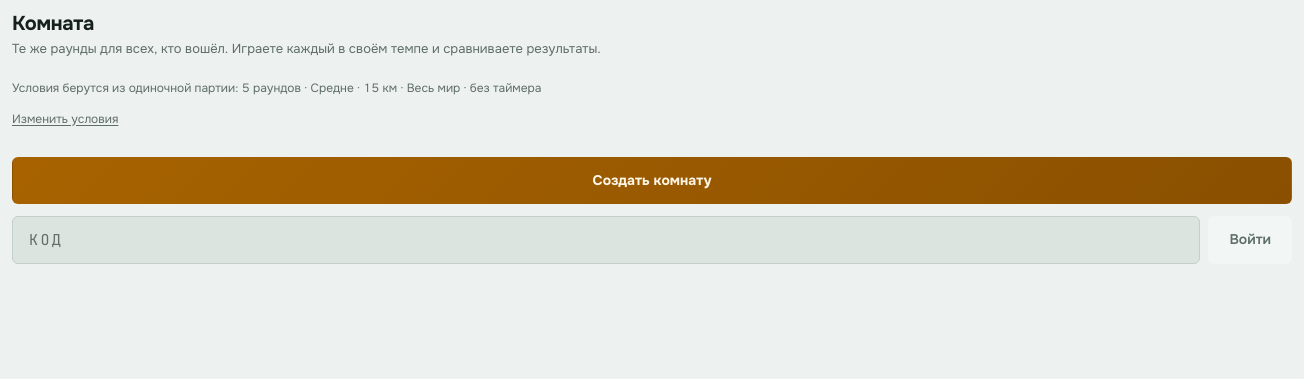
Test: MatchRoom › хост закрывает набор
Step 1. Click the button "Создать комнату" → (652, 180), box 12,156 -> 1292,204
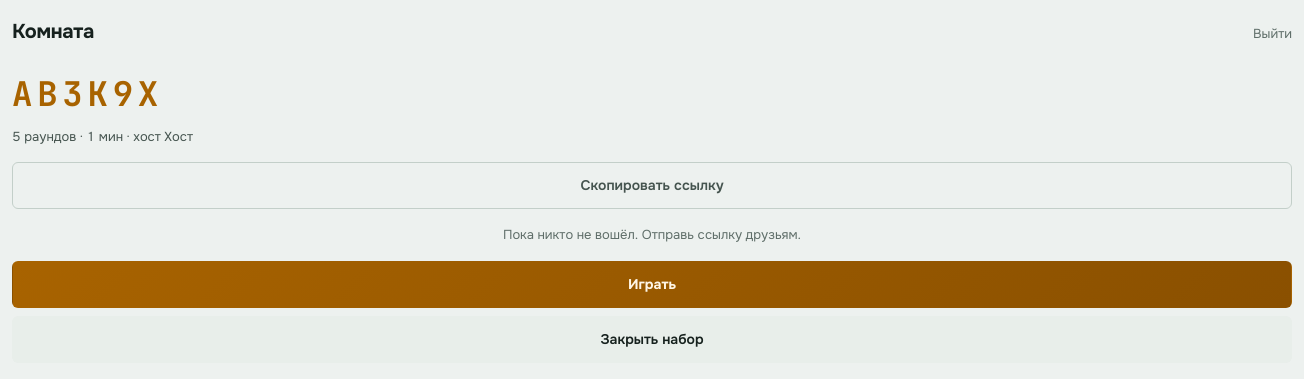
Step 2. Click the button "Закрыть набор" → (652, 339), box 12,316 -> 1292,362
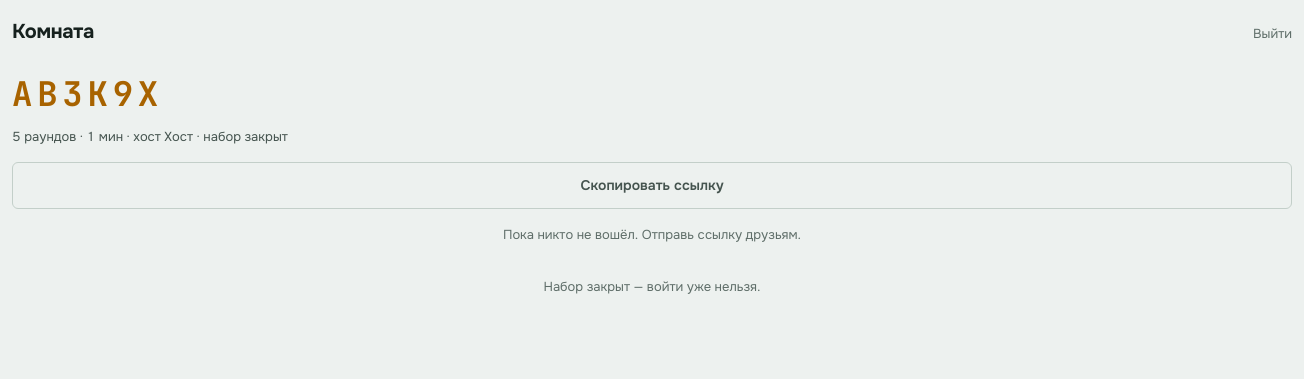
Expected: the text "5 раундов · 1 мин · хост Хост · набор закрыт" is shown, 12,128 -> 288,144
